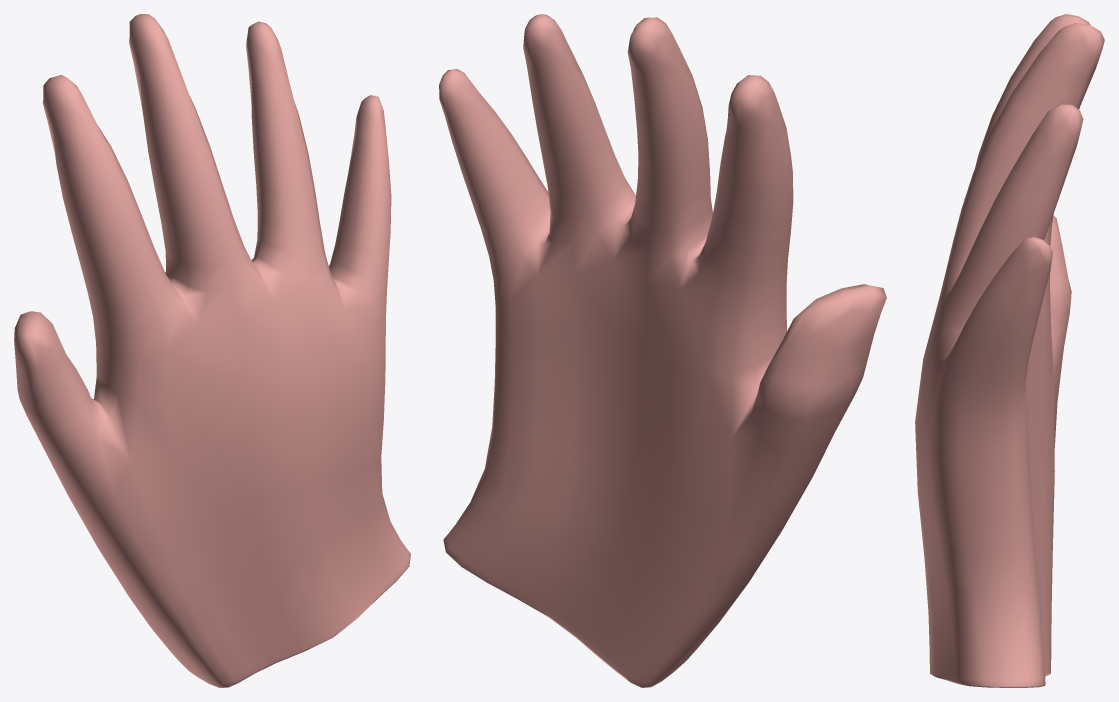
Rendered from Manuta2.fbx.
3 views of the same model, side by side, from view 1: azimuth 30°, elevation 25°; view 2: azimuth 150°, elevation 25°; view 3: azimuth 270°, elevation 25° (orthographic). The views are drawn at different scales.
Visible parts, largest first — view 1: Cube; view 2: Cube; view 3: Cube.
Part boxes in pixels (bbox=[...]): Cube: bbox=[14, 14, 410, 687]; Cube: bbox=[439, 14, 886, 687]; Cube: bbox=[915, 14, 1104, 687].
Size of the model in its own units: 281 by 438 by 118.
